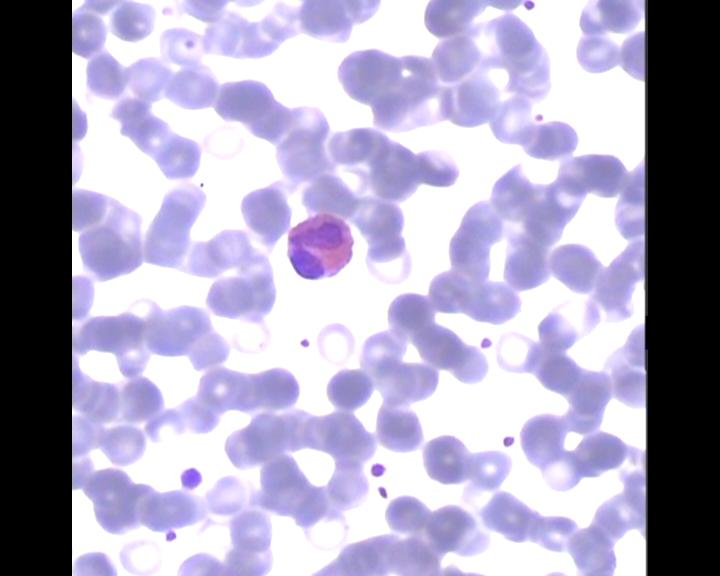eosi: (279, 210, 357, 282)
